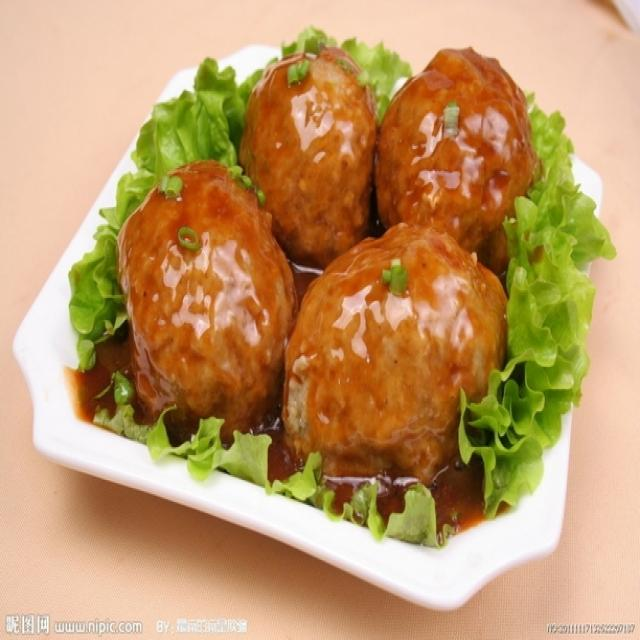Meatball: (280, 215, 512, 505), (116, 157, 296, 444), (373, 34, 540, 262), (228, 38, 383, 274)
